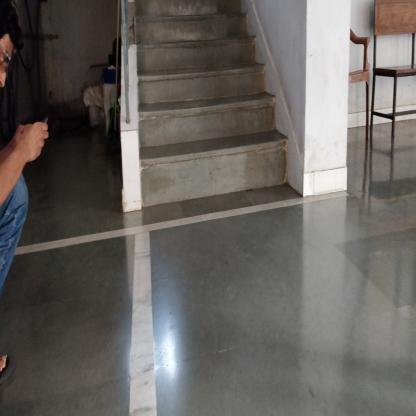stairs: (144, 15, 244, 233)
